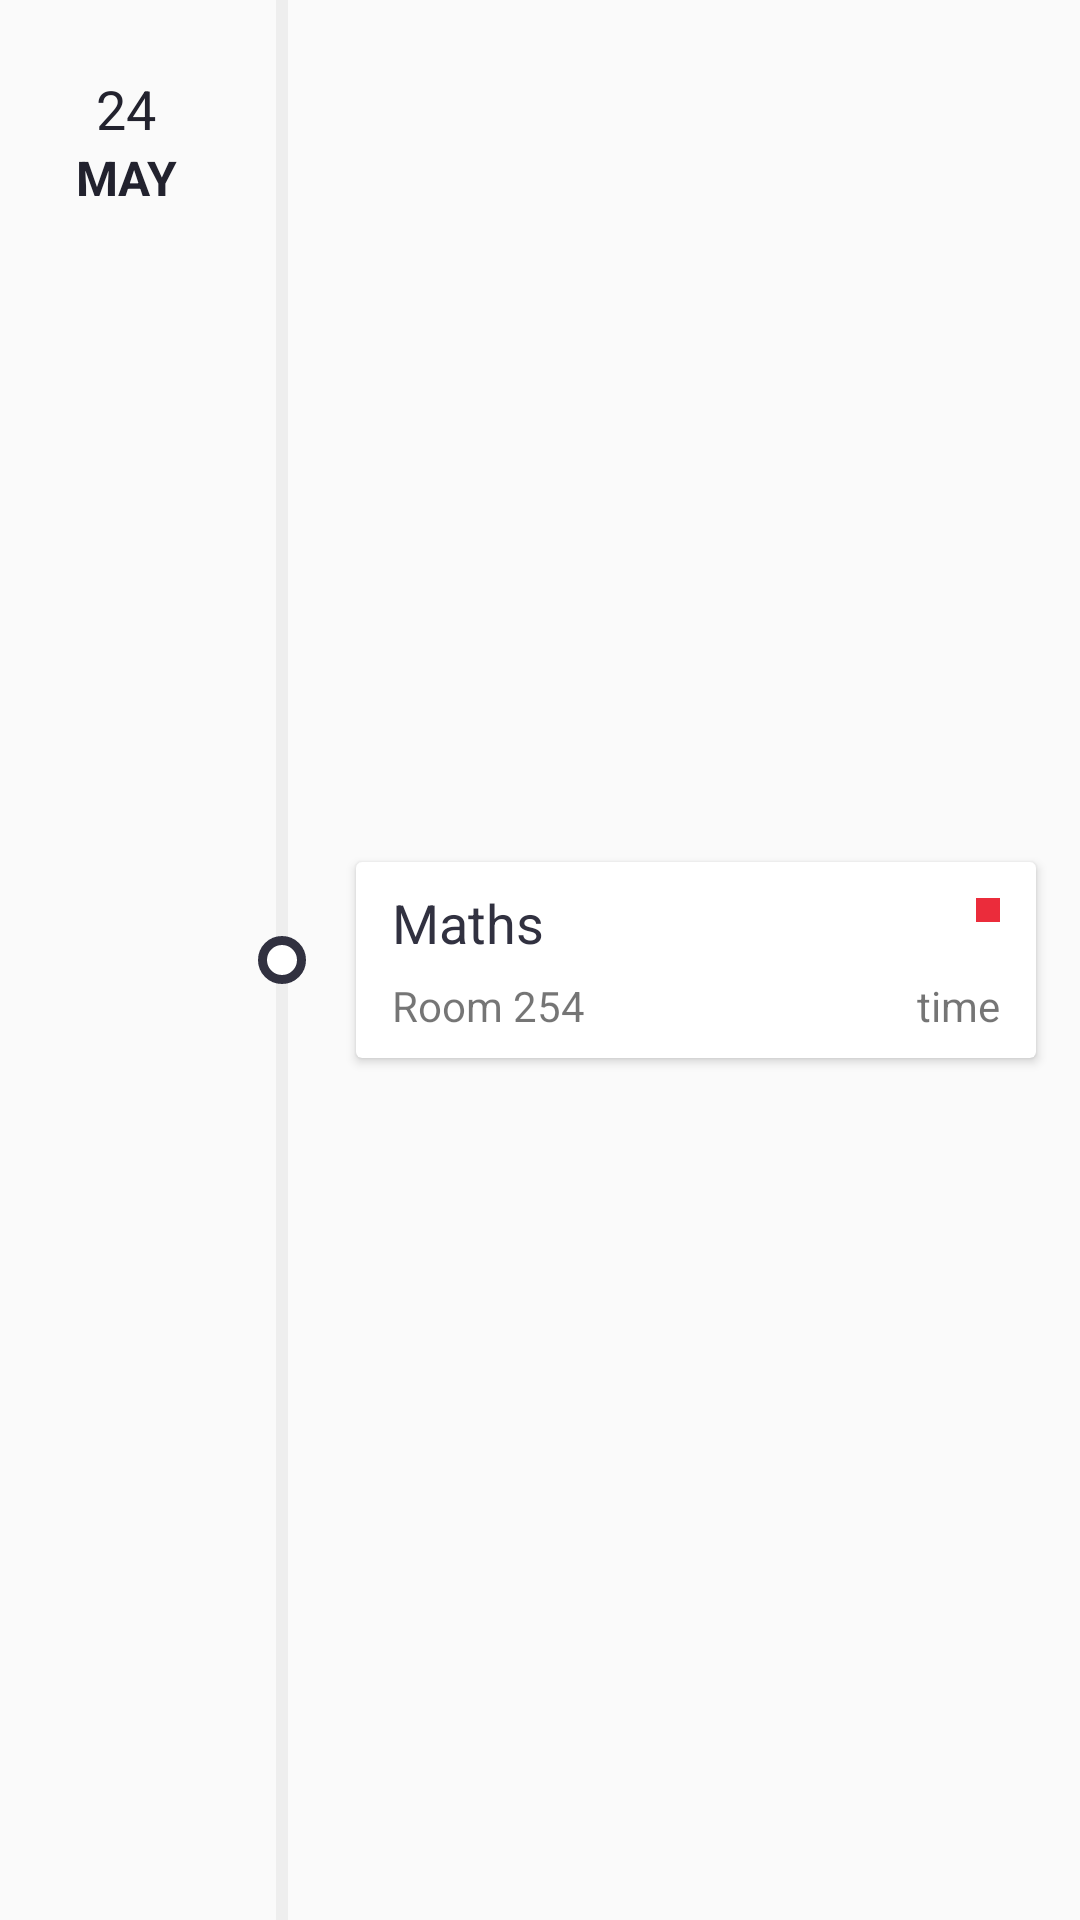

Screen size 1080 × 1920. Icon name, then its box in pixels as (x1, y1, x2, y2):
timeline dot: (258, 936, 306, 984)
